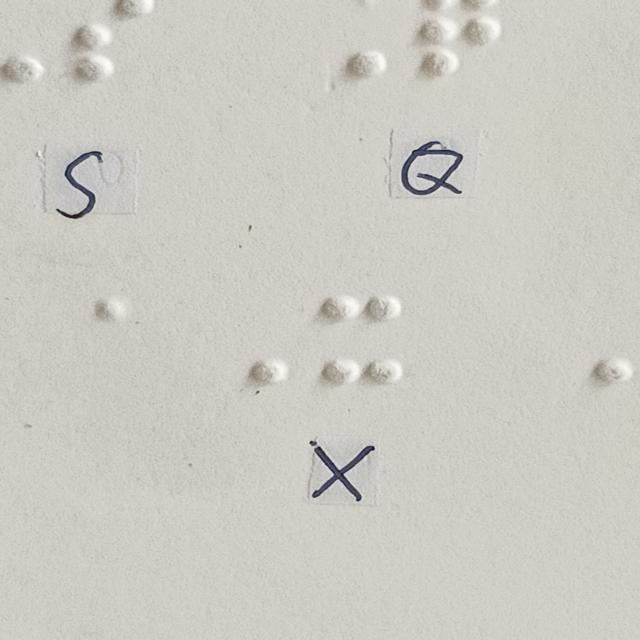X: (320, 296, 401, 384)
capital: (208, 296, 289, 384)
